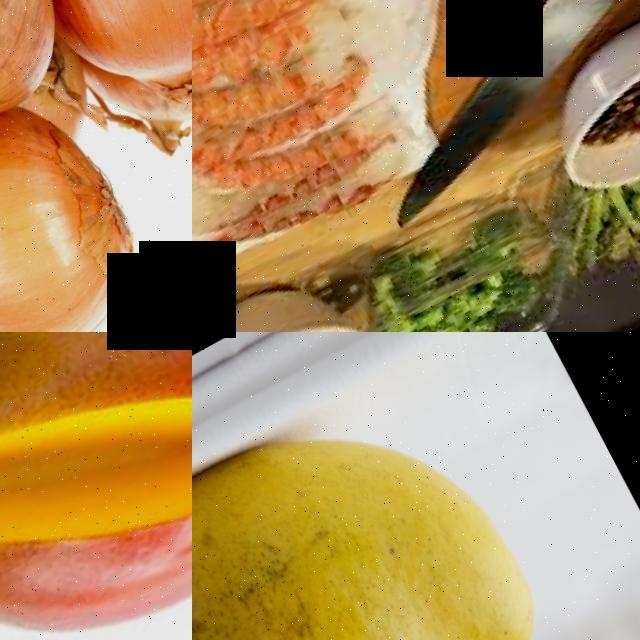lobster tails: (200, 89, 402, 228), (192, 0, 382, 117)
mango: (192, 332, 621, 640), (0, 332, 192, 640)
onion: (0, 83, 167, 332), (0, 0, 192, 155), (0, 0, 90, 162)
